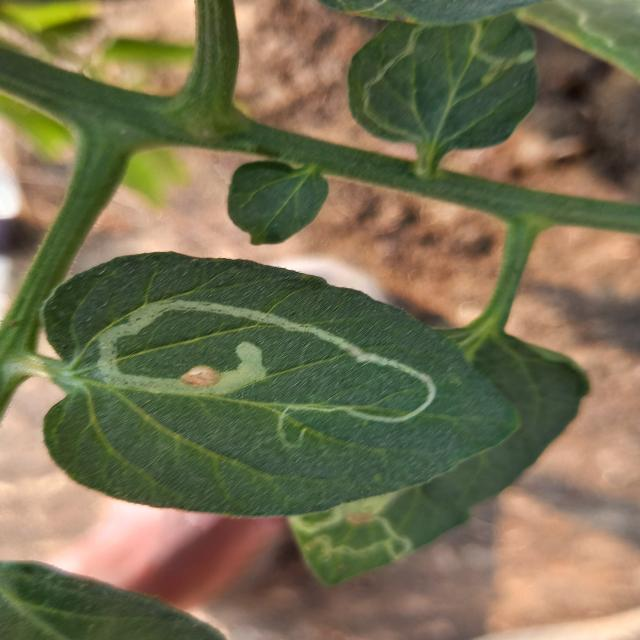Tuta absoluta: (86, 276, 445, 458)
